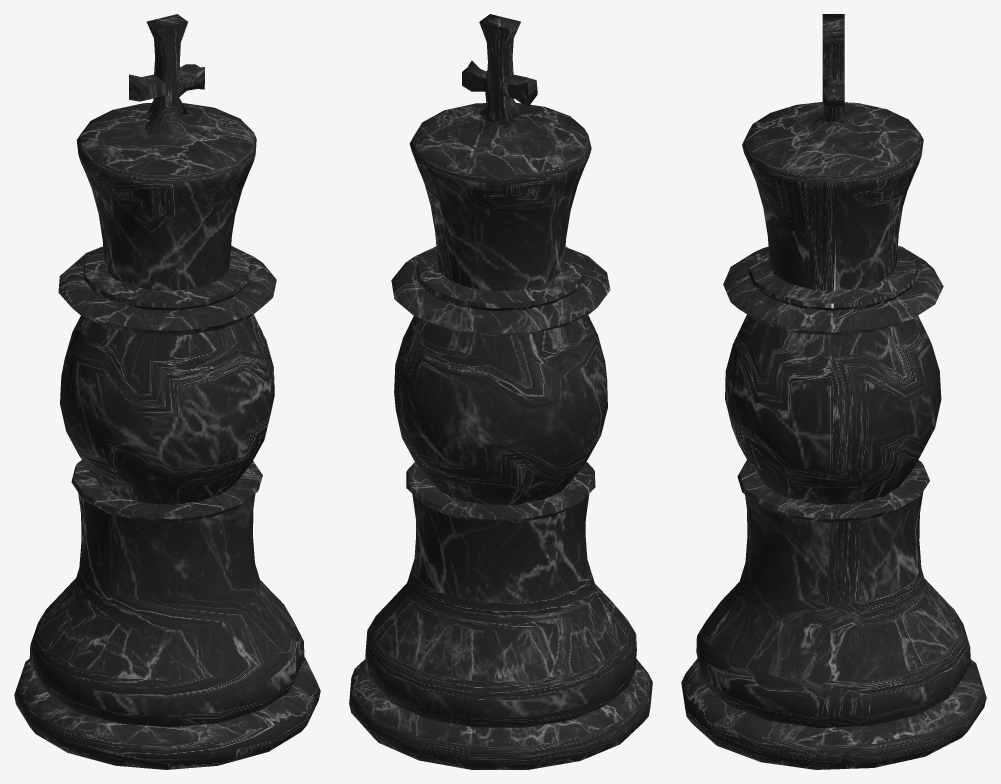
File: kingblack0.glb
3 renders of one model, left to right at view 1: azimuth 30°, elevation 25°; view 2: azimuth 150°, elevation 25°; view 3: azimuth 270°, elevation 25°, orthographic.
Bounding box in the file's own units: 0.789 × 1.98 × 0.7889.
1 material, 1 textured.
